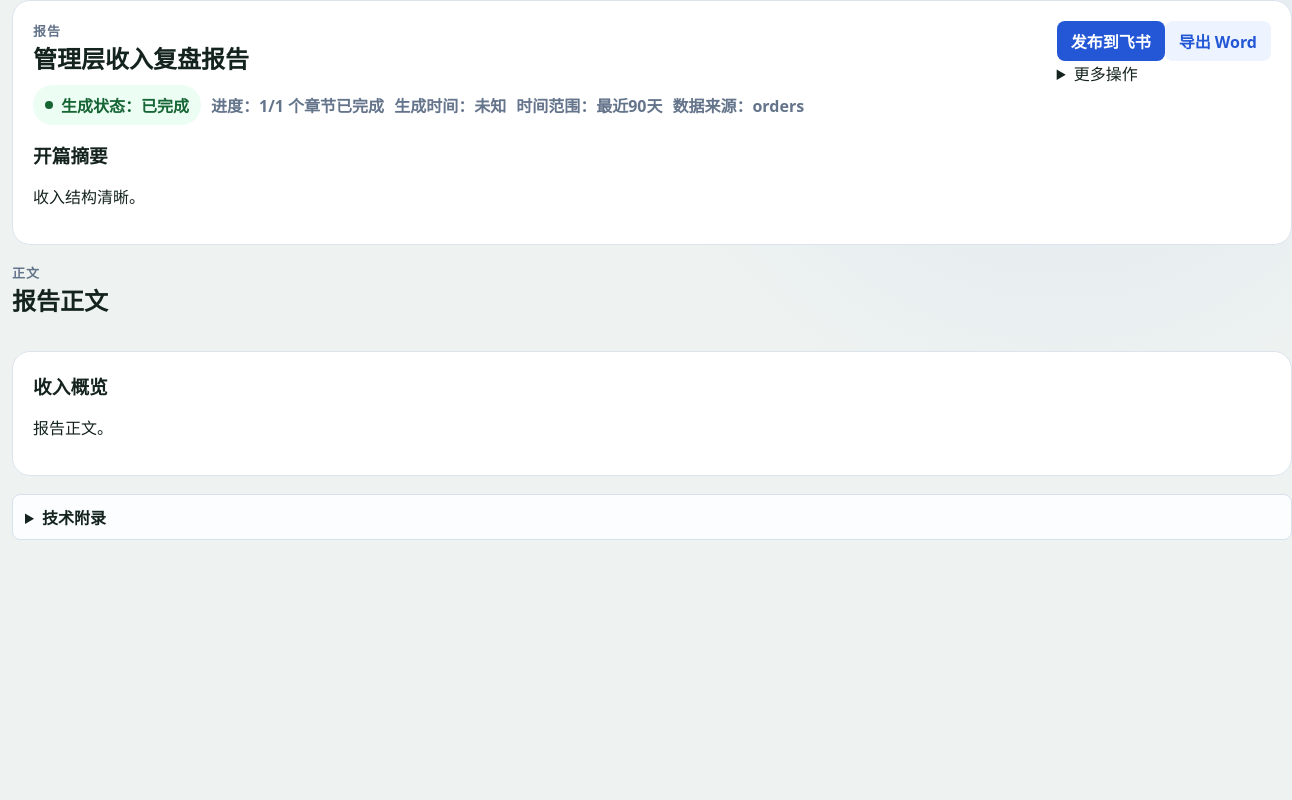
Test: workspace product components › shows a report Word export failure reason
Click the button "导出 Word" at [1218, 41], box [1165,21,1271,61]
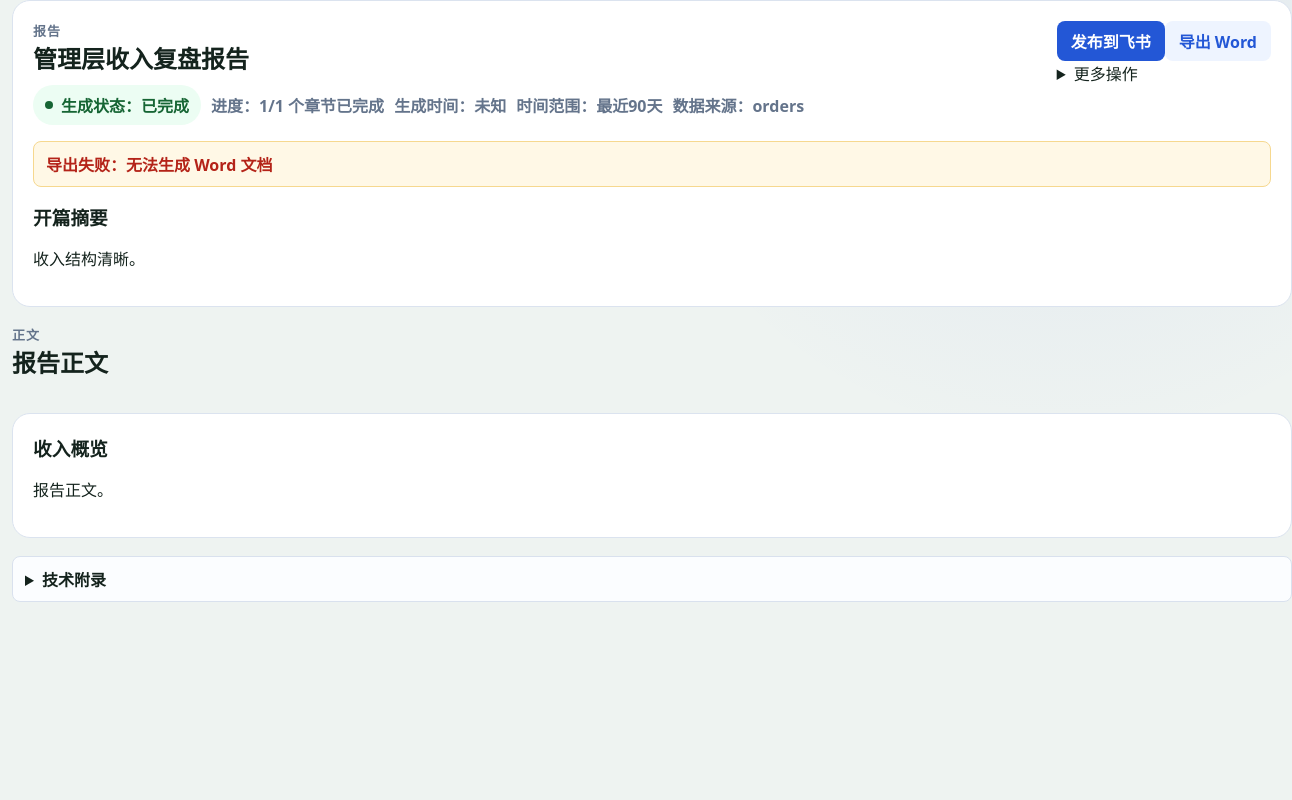
Check: the message reads "导出失败：无法生成 Word 文档", box [46,154,272,176]
